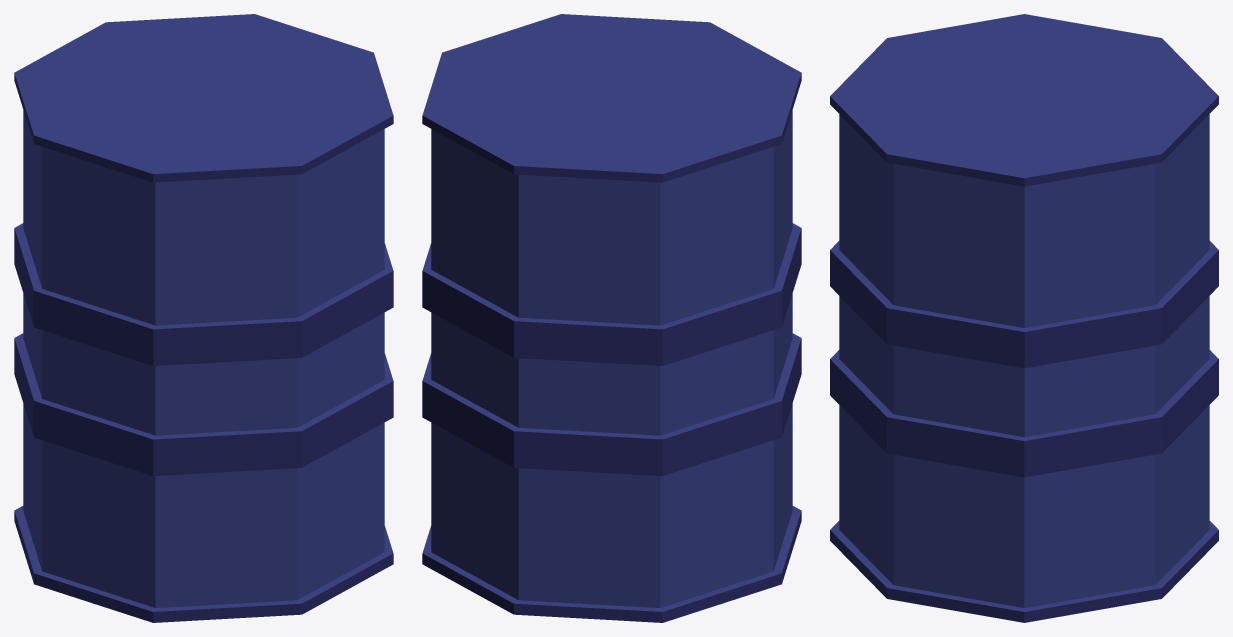
Rendered from barrel2.fbx.
3 views of the same model, side by side, from view 1: azimuth 30°, elevation 25°; view 2: azimuth 150°, elevation 25°; view 3: azimuth 270°, elevation 25° (orthographic).
Parts seen in each view (by area): view 1: Cylinder -col; view 2: Cylinder -col; view 3: Cylinder -col.
Part boxes in pixels (x1=…): Cylinder -col: x1=14, y1=14, x2=393, y2=622; Cylinder -col: x1=422, y1=14, x2=801, y2=622; Cylinder -col: x1=830, y1=14, x2=1218, y2=622.
Size of the model in its own units: 210 by 265 by 210.
